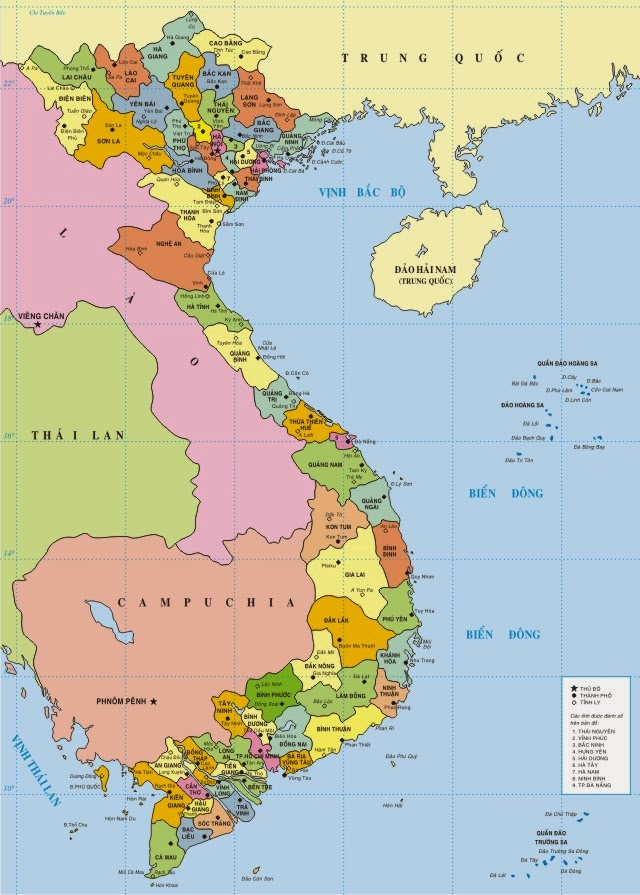Island: (488, 347, 633, 475), (482, 805, 640, 886)
